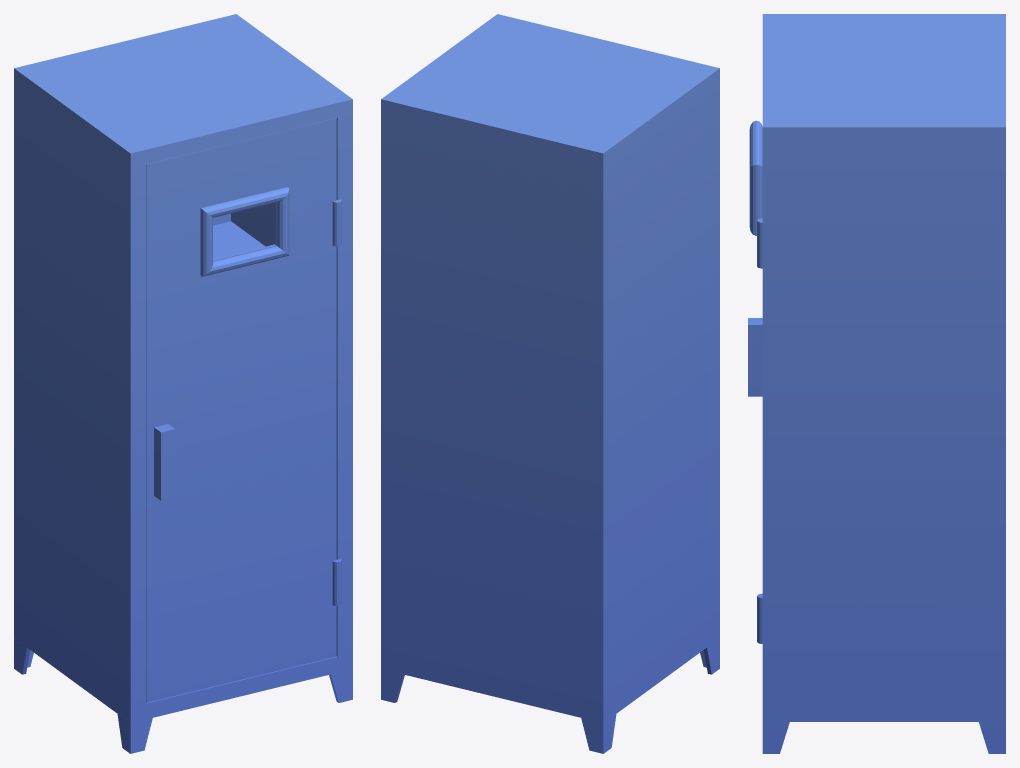
The model's file is locker2 break.fbx.
3 views of the same model, side by side, from view 1: azimuth 30°, elevation 25°; view 2: azimuth 150°, elevation 25°; view 3: azimuth 270°, elevation 25° (orthographic). The views are drawn at different scales.
Visible parts, largest first — view 1: Military_base_Cupboard_1_Part_7, Military_base_Cupboard_1_Part_3, Military_base_Cupboard_1_Part_5, Military_base_Cupboard_1_Part_2, Military_base_Cupboard_1_Part_6, Military_base_Cupboard_1_Part_4, Military_base_Cupboard_1_Part_1; view 2: Military_base_Cupboard_1_Part_2, Military_base_Cupboard_1_Part_4, Military_base_Cupboard_1_Part_3, Military_base_Cupboard_1_Part_1, Military_base_Cupboard_1_Part_7, Military_base_Cupboard_1_Part_6; view 3: Military_base_Cupboard_1_Part_2, Military_base_Cupboard_1_Part_1, Military_base_Cupboard_1_Part_5, Military_base_Cupboard_1_Part_3, Military_base_Cupboard_1_Part_7, Military_base_Cupboard_1_Part_4, Military_base_Cupboard_1_Part_6.
Boxes of the visible parts, <box> form: Military_base_Cupboard_1_Part_7: <box>19,72,298,383</box>; Military_base_Cupboard_1_Part_3: <box>14,506,352,753</box>; Military_base_Cupboard_1_Part_5: <box>191,319,352,596</box>; Military_base_Cupboard_1_Part_2: <box>14,14,352,318</box>; Military_base_Cupboard_1_Part_6: <box>32,373,230,616</box>; Military_base_Cupboard_1_Part_4: <box>14,229,201,515</box>; Military_base_Cupboard_1_Part_1: <box>14,192,345,326</box>; Military_base_Cupboard_1_Part_2: <box>381,14,609,304</box>; Military_base_Cupboard_1_Part_4: <box>381,291,709,591</box>; Military_base_Cupboard_1_Part_3: <box>381,531,719,753</box>; Military_base_Cupboard_1_Part_1: <box>381,274,621,539</box>; Military_base_Cupboard_1_Part_7: <box>552,27,719,302</box>; Military_base_Cupboard_1_Part_6: <box>622,295,719,574</box>; Military_base_Cupboard_1_Part_2: <box>757,14,1005,357</box>; Military_base_Cupboard_1_Part_1: <box>764,342,1005,587</box>; Military_base_Cupboard_1_Part_5: <box>757,356,959,644</box>; Military_base_Cupboard_1_Part_3: <box>757,602,1005,753</box>; Military_base_Cupboard_1_Part_7: <box>749,14,994,235</box>; Military_base_Cupboard_1_Part_4: <box>951,572,1005,606</box>; Military_base_Cupboard_1_Part_6: <box>748,318,762,396</box>.
Size of the model in its own units: 89.15 by 230 by 85.73.
1 material, 1 textured.
